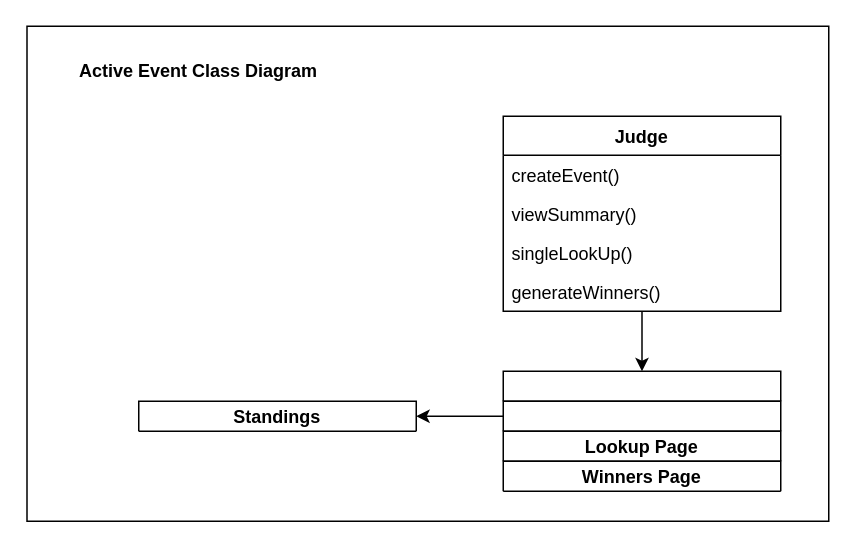
Some shapes in this 855 by 548 pixel diagram are drawn without their labels. The box of each missing label's shape, as (x1, y1, x2, y2) in pixels:
Create Event: (502, 370, 781, 401)
Summary Page: (502, 400, 781, 431)
